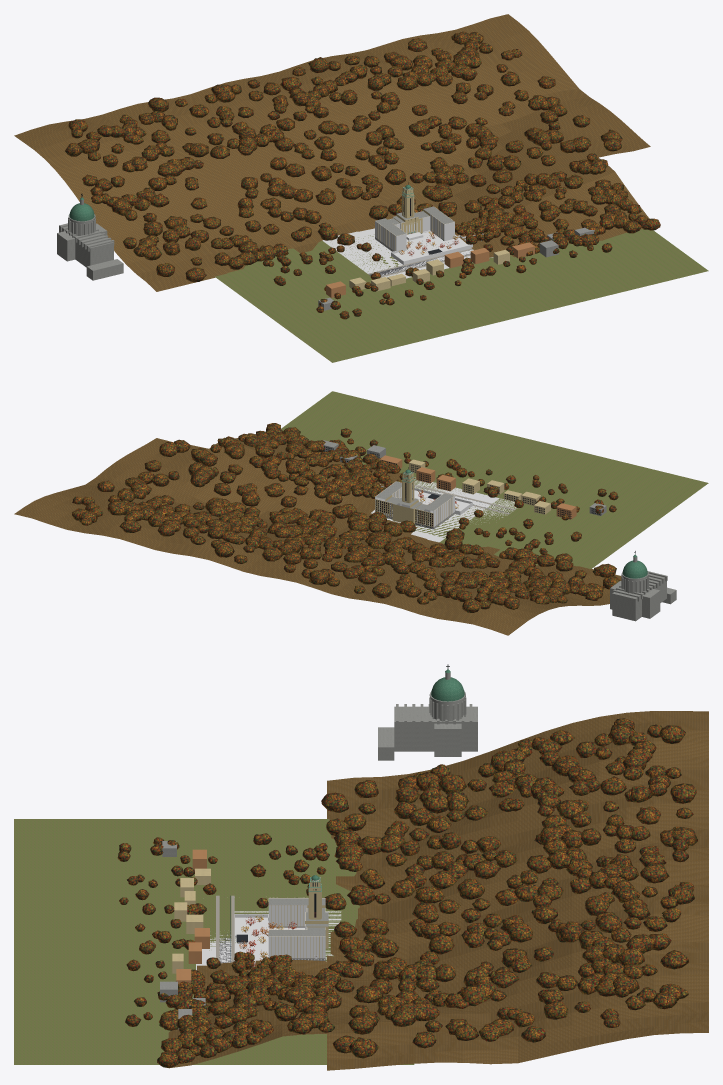
The model's file is campus.glb.
3 renders of one model, top to bottom at view 1: azimuth 30°, elevation 25°; view 2: azimuth 150°, elevation 25°; view 3: azimuth 270°, elevation 25°, orthographic. The views are drawn at different scales.
Visible parts, largest first — view 1: sol_sousbois, sol_canopee, sol_gazon, sol_beton, COL_sol, sol_brique, sol_brique_rouge, bat_brique, bat_beton; view 2: sol_canopee, sol_gazon, sol_sousbois, sol_beton, COL_sol, bat_brique, sol_brique, sol_brique_rouge, bat_beton, sol_fenetre_sombre; view 3: sol_canopee, sol_sousbois, sol_gazon, sol_beton, sol_brique, bat_brique, COL_facade_7, sol_brique_rouge, bat_beton, COL_sol, COL_facade_10, sol_dome.
Part boxes in pixels (x1,y1,x2,y2): sol_sousbois: [14, 14, 650, 291]; sol_canopee: [65, 31, 660, 319]; sol_gazon: [215, 229, 708, 362]; sol_beton: [57, 199, 594, 310]; COL_sol: [322, 228, 493, 278]; sol_brique: [349, 249, 509, 291]; sol_brique_rouge: [326, 242, 534, 297]; bat_brique: [377, 188, 443, 250]; bat_beton: [375, 206, 453, 235]; sol_canopee: [72, 423, 620, 612]; sol_gazon: [281, 391, 708, 568]; sol_sousbois: [14, 438, 621, 635]; sol_beton: [323, 440, 676, 621]; COL_sol: [371, 477, 517, 542]; bat_brique: [375, 472, 452, 527]; sol_brique: [409, 459, 550, 514]; sol_brique_rouge: [379, 455, 576, 519]; bat_beton: [375, 481, 453, 510]; sol_fenetre_sombre: [324, 446, 601, 518]; sol_canopee: [117, 718, 697, 1067]; sol_sousbois: [168, 711, 708, 1070]; sol_gazon: [14, 819, 414, 1064]; sol_beton: [160, 672, 477, 1029]; sol_brique: [172, 868, 210, 973]; bat_brique: [271, 881, 328, 958]; COL_facade_7: [269, 936, 325, 960]; sol_brique_rouge: [176, 849, 209, 984]; bat_beton: [269, 898, 328, 936]; COL_sol: [196, 897, 341, 970]; COL_facade_10: [268, 905, 307, 926]; sol_dome: [431, 669, 464, 701].
Bounding box in the file's own units: 924 × 120 × 764.
Materials: 52 (38 with a texture image).
